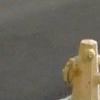Hydrant: (44, 27, 100, 100)
